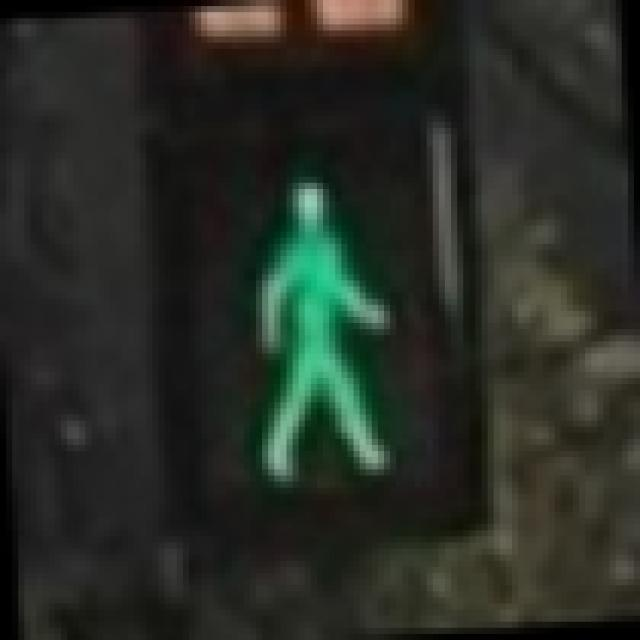geen-crossing: (134, 86, 488, 536)
